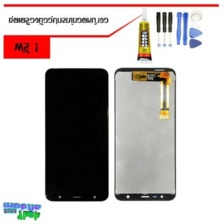phone: (41, 65, 110, 207), (114, 66, 179, 204)
